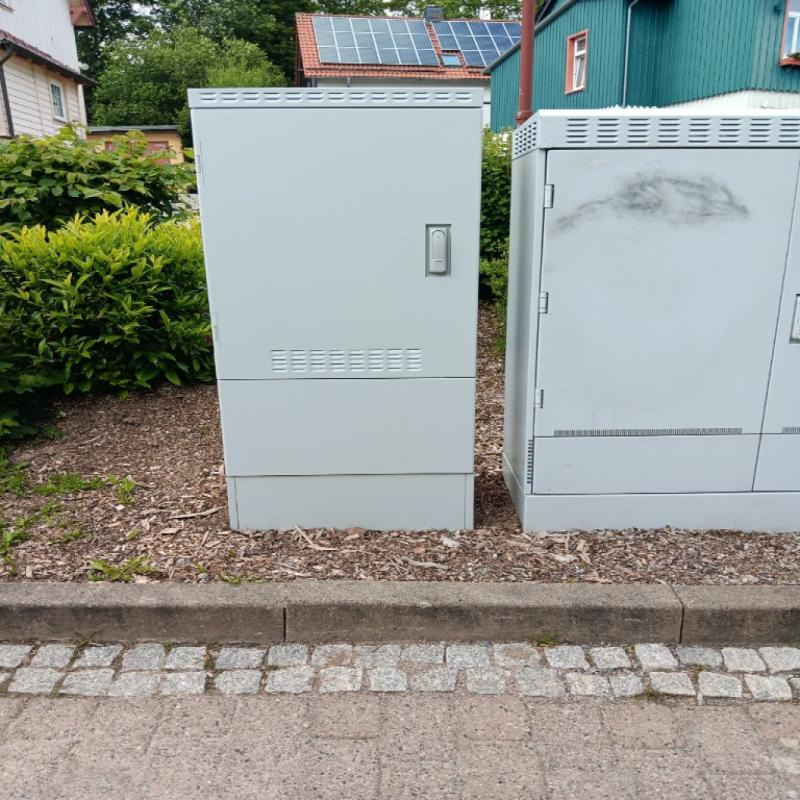NT-Gehause: (191, 89, 483, 528), (503, 112, 800, 536)
